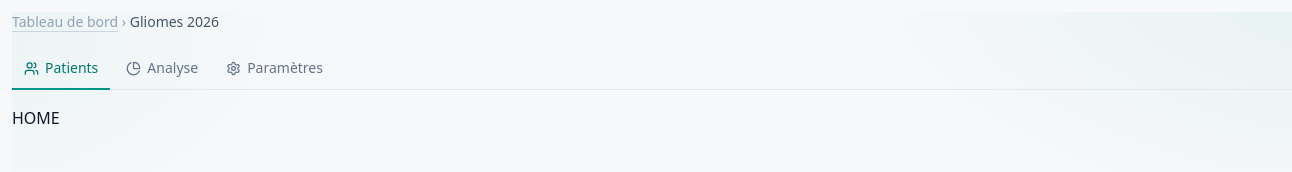
Test case: BaseLayout — quatre destinations › un seul sous-onglet disponible : pas de barre secondaire
Click the link "Analyse" at (162,68), box x1=126 y1=58 x2=198 y2=77
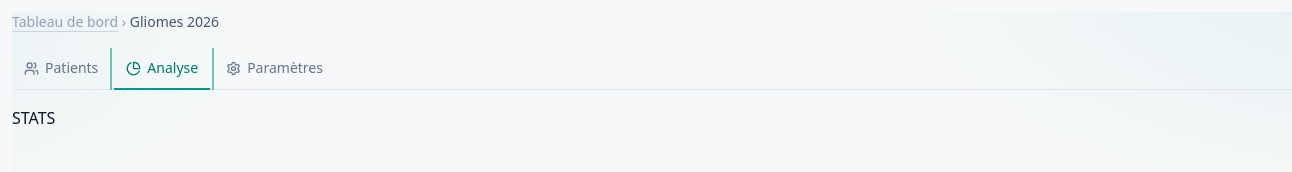
Expected: the text "STATS" is shown, x1=12 y1=107 x2=55 y2=129
